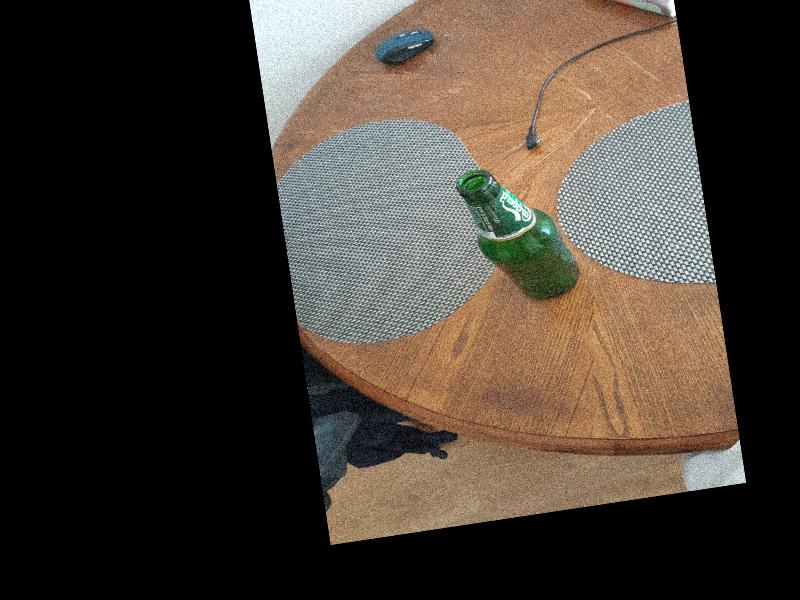Beer: (453, 156, 588, 312)
